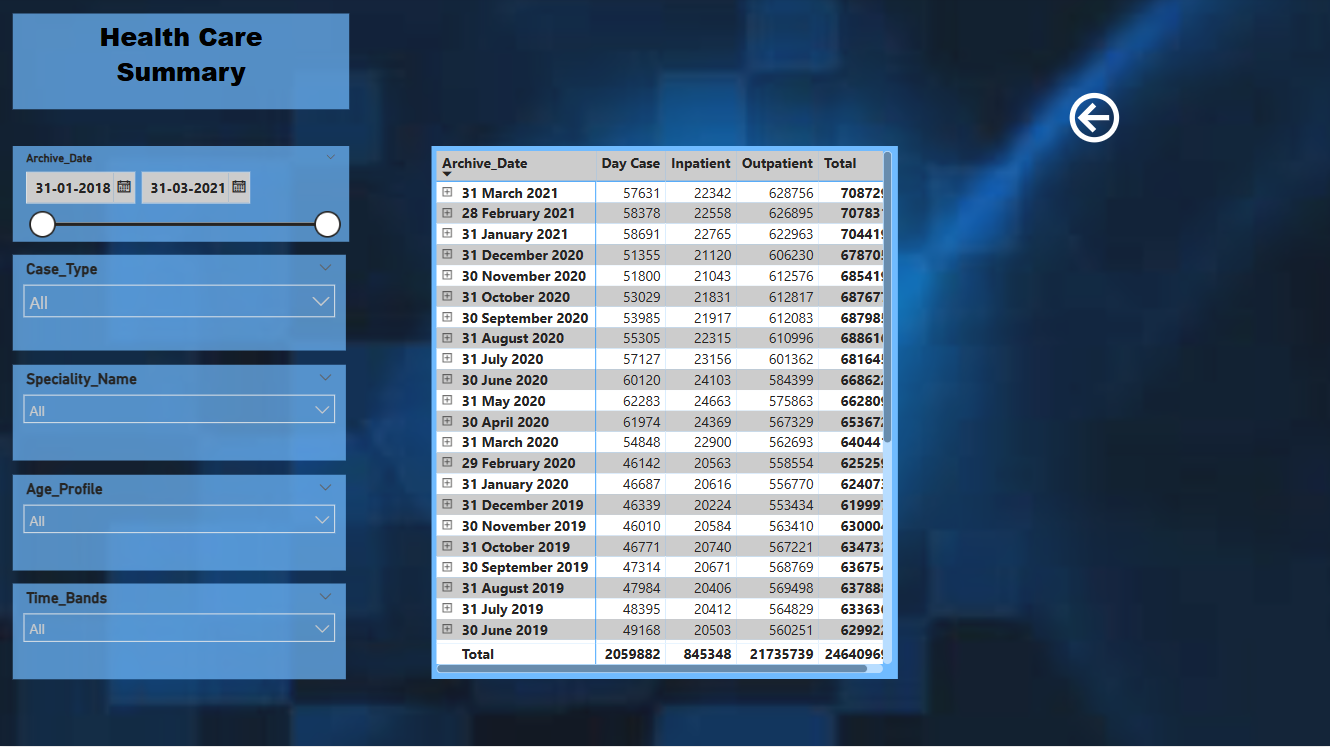

What the dashboard file says about the page in this screenshot:
{"tool":"powerbi","page":{"name":"Detailed_Page","canvas":[1280,720],"ordinal":1},"visuals":[{"type":"pivotTable","fields":{"Rows":["Patient_data.Archive_Date","Patient_data.Speciality_Name","Patient_data.Age_Profile","Patient_data.Time_Bands"],"Values":["Sum(Patient_data.Total)"],"Columns":["Patient_data.Case_Type"]},"box":[415.1,144.2,447.7,511.6],"z":0},{"type":"slicer","fields":{"Values":["Patient_data.Archive_Date"]},"box":[12.8,144.2,323.3,91.9],"z":1000},{"type":"textbox","box":[12.8,16.3,323.3,91.9],"z":2000},{"type":"slicer","fields":{"Values":["Patient_data.Case_Type"]},"box":[12.8,248.8,319.8,91.9],"z":3000},{"type":"slicer","fields":{"Values":["Patient_data.Speciality_Name"]},"box":[12.8,354.7,319.8,91.9],"z":4000},{"type":"slicer","fields":{"Values":["Patient_data.Age_Profile"]},"box":[12.8,460.5,319.8,91.9],"z":5000},{"type":"slicer","fields":{"Values":["Patient_data.Time_Bands"]},"box":[12.8,564,319.8,91.9],"z":6000},{"type":"actionButton","box":[1023,87.7,99.7,56.4],"z":7000}]}

Visuals, with their boxes in screenshot pixels (x1, y1, x2, y2), scaled from the page's 1280x720 canvas onto the 1330x747 screenshot:
pivotTable - Patient_data.Archive_Date x Patient_data.Speciality_Name: bbox=[431, 150, 897, 680]
slicer - Patient_data.Archive_Date: bbox=[13, 150, 349, 245]
textbox: bbox=[13, 17, 349, 112]
slicer - Patient_data.Case_Type: bbox=[13, 258, 346, 353]
slicer - Patient_data.Speciality_Name: bbox=[13, 368, 346, 463]
slicer - Patient_data.Age_Profile: bbox=[13, 478, 346, 573]
slicer - Patient_data.Time_Bands: bbox=[13, 585, 346, 680]
actionButton: bbox=[1063, 91, 1167, 150]
